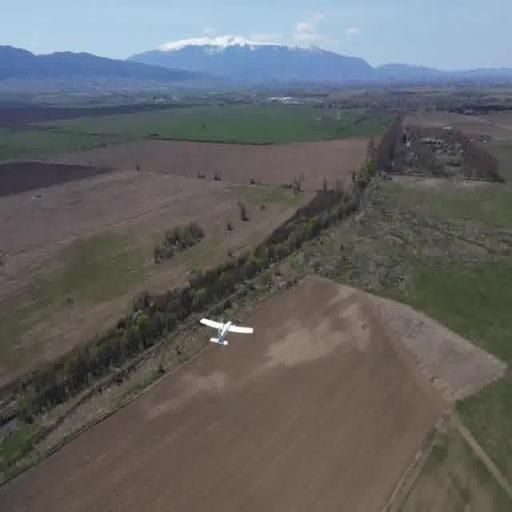uav: (199, 310, 255, 358)
